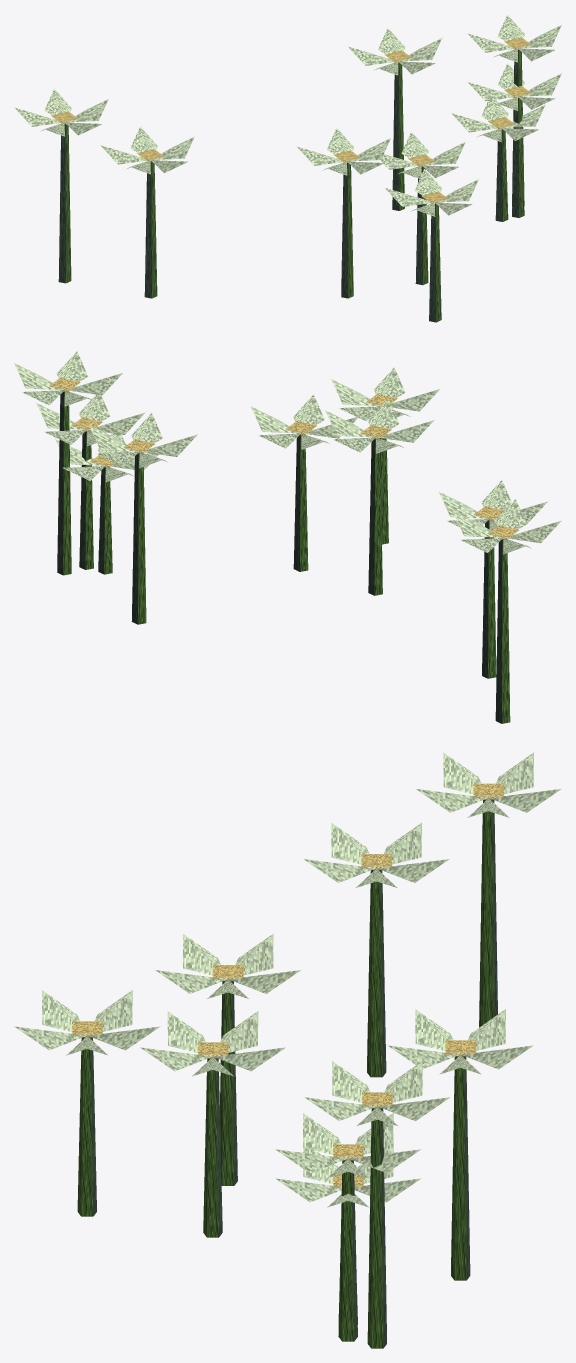
Rendered from SM_Woodland_Wildflowers.fbx.
3 views of the same model, one above another, from view 1: azimuth 30°, elevation 25°; view 2: azimuth 150°, elevation 25°; view 3: azimuth 270°, elevation 25° (orthographic). The views are drawn at different scales.
Parts seen in each view (by area): view 1: SM_Woodland_Wildflowers; view 2: SM_Woodland_Wildflowers; view 3: SM_Woodland_Wildflowers.
Boxes of the visible parts, x1,y1,x2,y2 form: SM_Woodland_Wildflowers: [14, 14, 561, 322]; SM_Woodland_Wildflowers: [14, 351, 561, 723]; SM_Woodland_Wildflowers: [14, 752, 560, 1348].
Size of the model in its own units: 101 by 63.97 by 33.35.
Materials: 1 (1 with a texture image).
